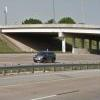Bridge: (7, 17, 94, 45)
